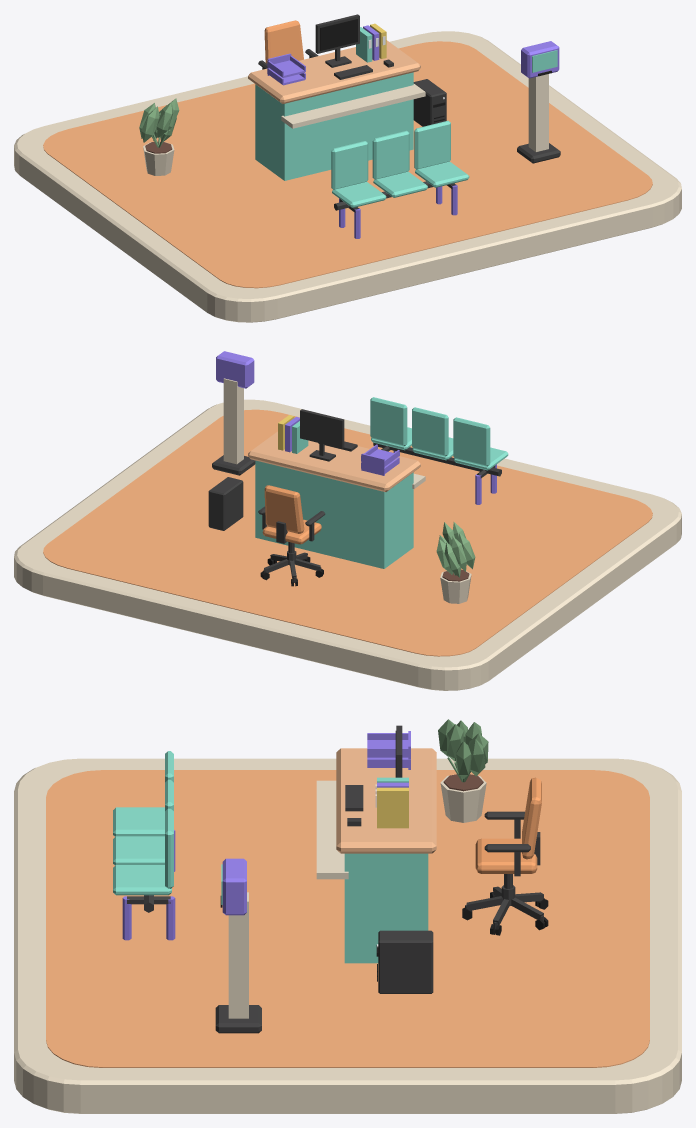
File: room.fbx
The picture shows the model from 3 angles, top to bottom: view 1: azimuth 30°, elevation 25°; view 2: azimuth 150°, elevation 25°; view 3: azimuth 270°, elevation 25°; orthographic projection. The views are drawn at different scales.
Parts seen in each view (by area): view 1: COM-02 Floor Surface, COM-01 Rounded Base Direct, Counter body, Countertop, Pot, Visitor shelf, Frame, Back, Back.001, Pedestal, Back.002, COM-04_Chair_blender_direct (+6 smaller); view 2: COM-02 Floor Surface, COM-01 Rounded Base Direct, Counter body, Countertop, COM-04_Chair_blender_direct, Pot, Pedestal, Tower, Frame, Back.002, Back, Back.001 (+2 smaller); view 3: COM-02 Floor Surface, COM-01 Rounded Base Direct, Counter body, Countertop, COM-04_Chair_blender_direct, Pot, Tower, Visitor shelf, Pedestal, Seat.002, Seat, Seat.001 (+4 smaller).
Part boxes in pixels (box(x1,y1,x2,y2)): COM-02 Floor Surface: box(43, 41, 652, 288); COM-01 Rounded Base Direct: box(14, 31, 681, 322); Counter body: box(255, 72, 413, 180); Countertop: box(248, 40, 420, 103); Pot: box(139, 98, 179, 175); Visitor shelf: box(281, 84, 425, 128); Frame: box(315, 14, 359, 67); Back: box(331, 141, 368, 189); Back.001: box(372, 130, 409, 179); Pedestal: box(528, 74, 548, 151); Back.002: box(414, 120, 450, 169); COM-04_Chair_blender_direct: box(258, 20, 318, 69); COM-02 Floor Surface: box(43, 409, 652, 656); COM-01 Rounded Base Direct: box(14, 399, 681, 690); Counter body: box(255, 460, 413, 568); Countertop: box(248, 431, 420, 492); COM-04_Chair_blender_direct: box(258, 485, 325, 586); Pot: box(436, 522, 475, 603); Pedestal: box(223, 378, 243, 464); Tower: box(208, 477, 243, 530); Frame: box(300, 409, 344, 461); Back.002: box(370, 397, 407, 446); Back: box(453, 417, 490, 466); Back.001: box(412, 407, 448, 456); COM-02 Floor Surface: box(46, 770, 649, 1067); COM-01 Rounded Base Direct: box(14, 758, 681, 1113); Counter body: box(344, 853, 428, 963); Countertop: box(336, 748, 436, 853); COM-04_Chair_blender_direct: box(462, 777, 548, 935); Pot: box(438, 719, 488, 822); Tower: box(378, 930, 433, 993); Visitor shelf: box(316, 780, 348, 879); Pedestal: box(228, 892, 248, 1018); Seat.002: box(113, 865, 171, 895); Seat: box(113, 807, 164, 836); Seat.001: box(113, 836, 164, 865).
Bounding box in the file's own units: 600 × 187 × 520.
